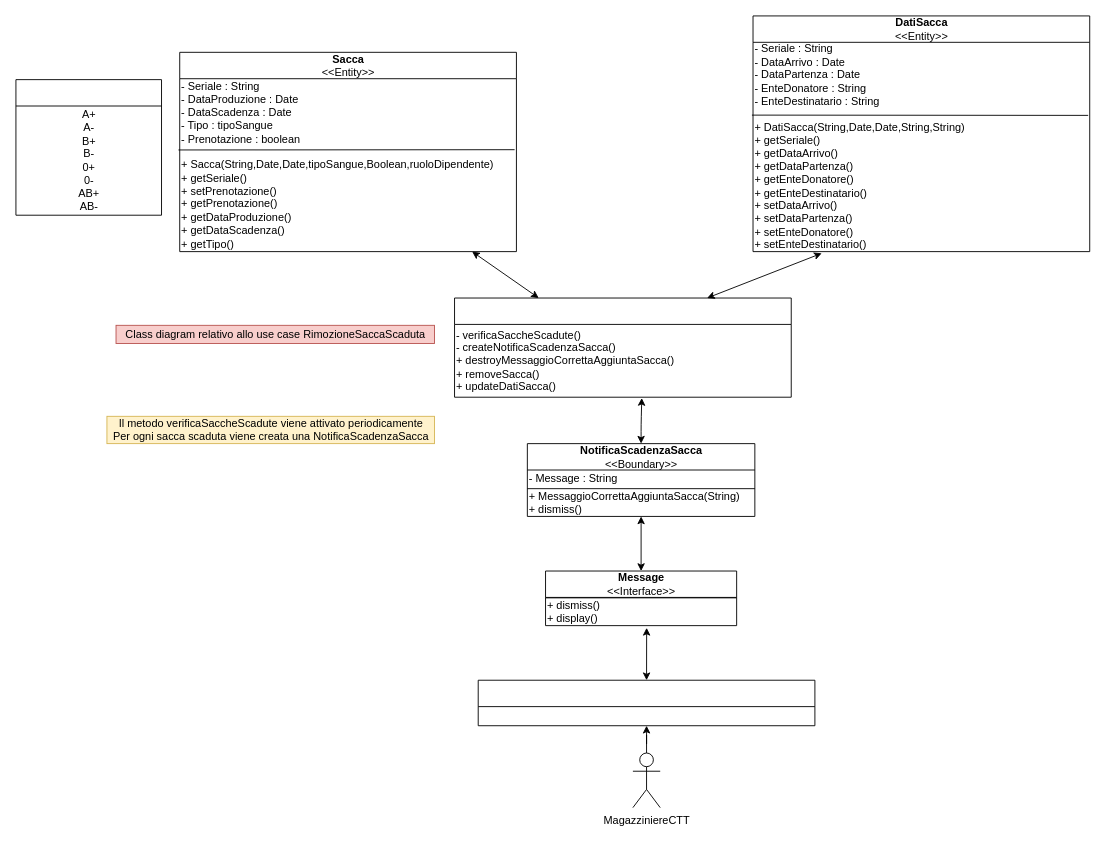
This 1106x843 diagram has some shape labels left out. Here are the shapes that lost their labels. From the top down, the box of each, then its label:
(15, 79, 162, 215): tipoSangue <<Enumeration>>
(454, 297, 791, 397): NotificaScadenzaSaccaControl <<Control>>
(477, 679, 815, 726): TerminaleMagazziniereCTT <<Boundary>>
